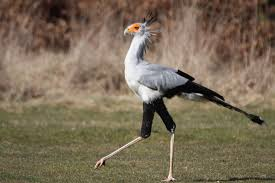Walking: (89, 9, 266, 181)
